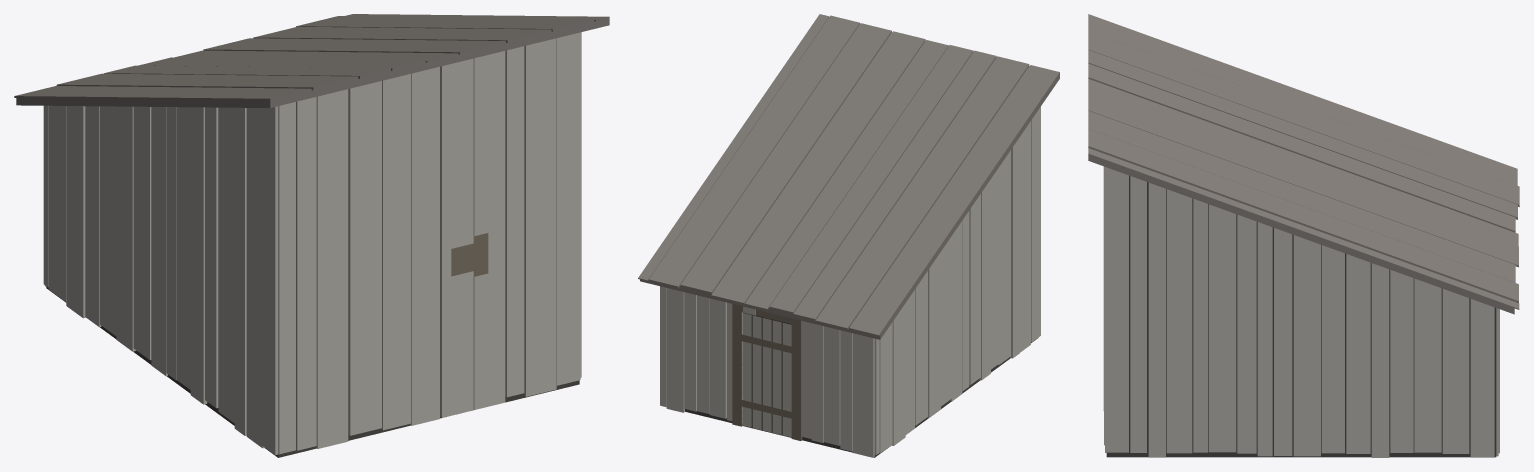
Rendered from recon_1835_west_011__inferred_1835.glb.
The picture shows the model from 3 angles, left to right: view 1: azimuth 30°, elevation 25°; view 2: azimuth 150°, elevation 25°; view 3: azimuth 270°, elevation 25°; orthographic projection. The views are drawn at different scales.
Visible parts, largest first — view 1: recon_1835_west_011__inferred_1835; view 2: recon_1835_west_011__inferred_1835; view 3: recon_1835_west_011__inferred_1835.
Part boxes in pixels (bbox=[...]): recon_1835_west_011__inferred_1835: bbox=[14, 14, 609, 457]; recon_1835_west_011__inferred_1835: bbox=[638, 14, 1059, 457]; recon_1835_west_011__inferred_1835: bbox=[1088, 14, 1519, 457].
Bounding box in the file's own units: 4.12 × 4.32 × 5.4.
